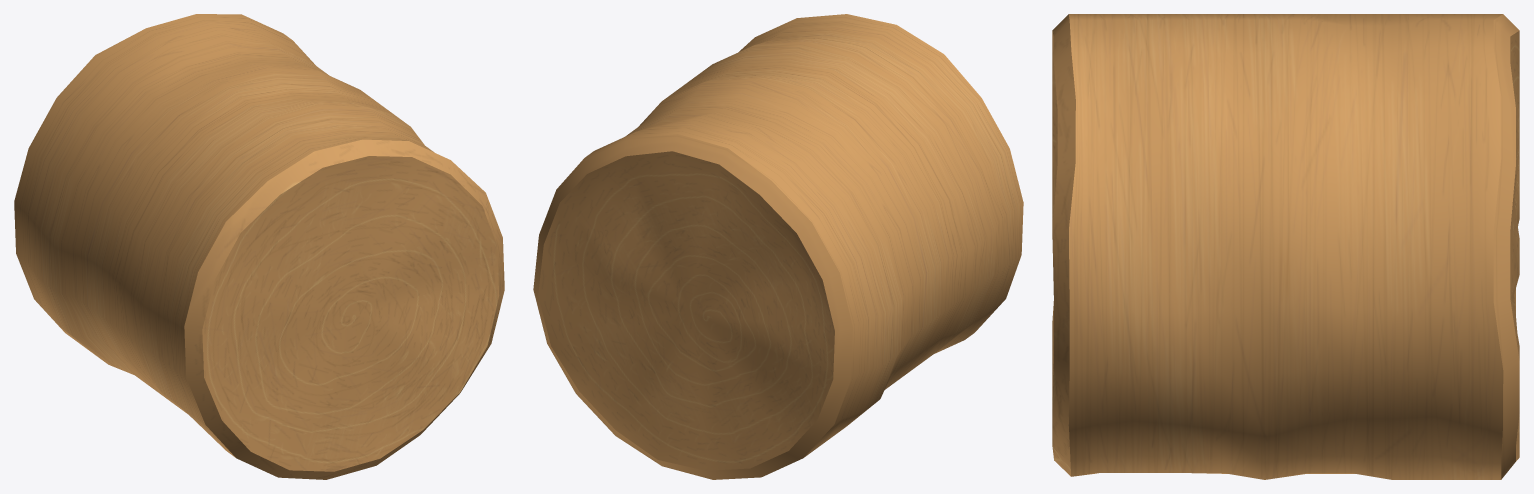
Rendered from Hay Bail.fbx.
3 renders of one model, left to right at view 1: azimuth 30°, elevation 25°; view 2: azimuth 150°, elevation 25°; view 3: azimuth 270°, elevation 25°, orthographic. The views are drawn at different scales.
Visible parts, largest first — view 1: Hay_Bale; view 2: Hay_Bale; view 3: Hay_Bale.
Part boxes in pixels (<box>): Hay_Bale: <box>14,14,504,479</box>; Hay_Bale: <box>533,14,1023,479</box>; Hay_Bale: <box>1052,14,1519,479</box>.
Size of the model in its own units: 7.34 by 7.2 by 7.25.
